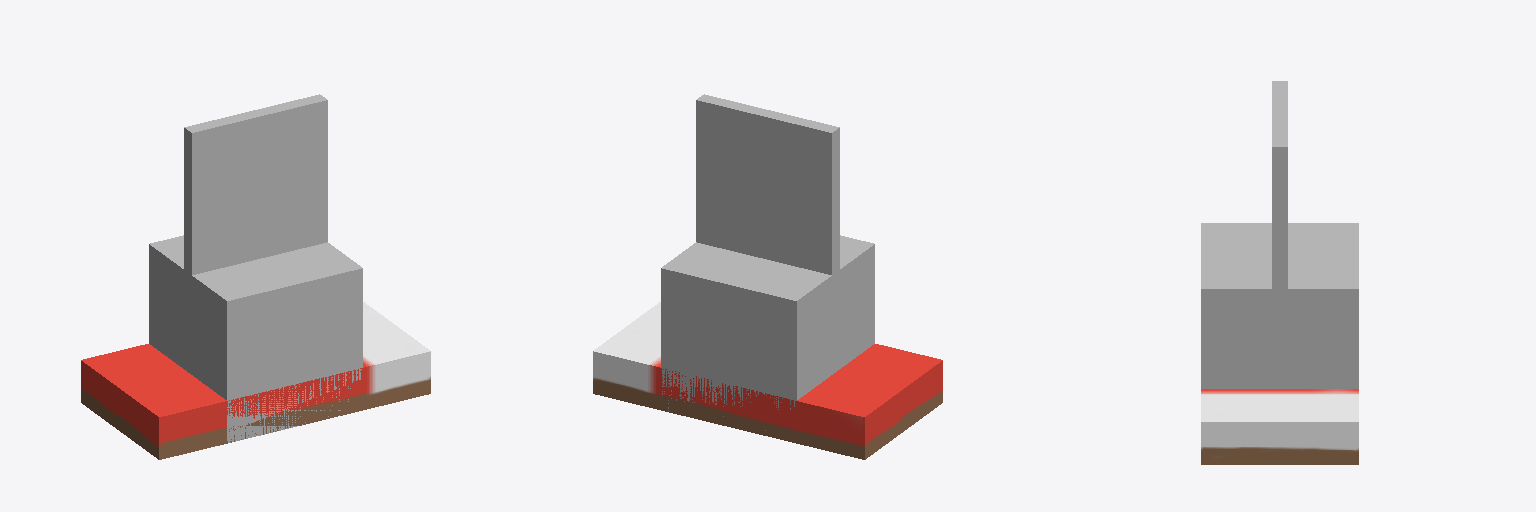
The picture shows the model from 3 angles: view 1: azimuth 30°, elevation 25°; view 2: azimuth 150°, elevation 25°; view 3: azimuth 270°, elevation 25°; orthographic projection.
Parts seen in each view (by area): view 1: Brick.002_Cube.013, Door.002_Cube.014, Bed.002_Cube.012; view 2: Brick.002_Cube.013, Door.002_Cube.014, Bed.002_Cube.012; view 3: Brick.002_Cube.013, Bed.002_Cube.012, Door.002_Cube.014.
Boxes of the visible parts, <box> form: Brick.002_Cube.013: <box>149,235,362,442</box>; Door.002_Cube.014: <box>184,94,327,373</box>; Bed.002_Cube.012: <box>81,302,430,459</box>; Brick.002_Cube.013: <box>661,235,874,430</box>; Door.002_Cube.014: <box>696,94,839,274</box>; Bed.002_Cube.012: <box>593,302,942,459</box>; Brick.002_Cube.013: <box>1201,223,1358,388</box>; Bed.002_Cube.012: <box>1201,389,1358,464</box>; Door.002_Cube.014: <box>1272,81,1287,388</box>.
Size of the model in its own units: 2 by 2 by 1.
Materials: 3 (1 with a texture image).